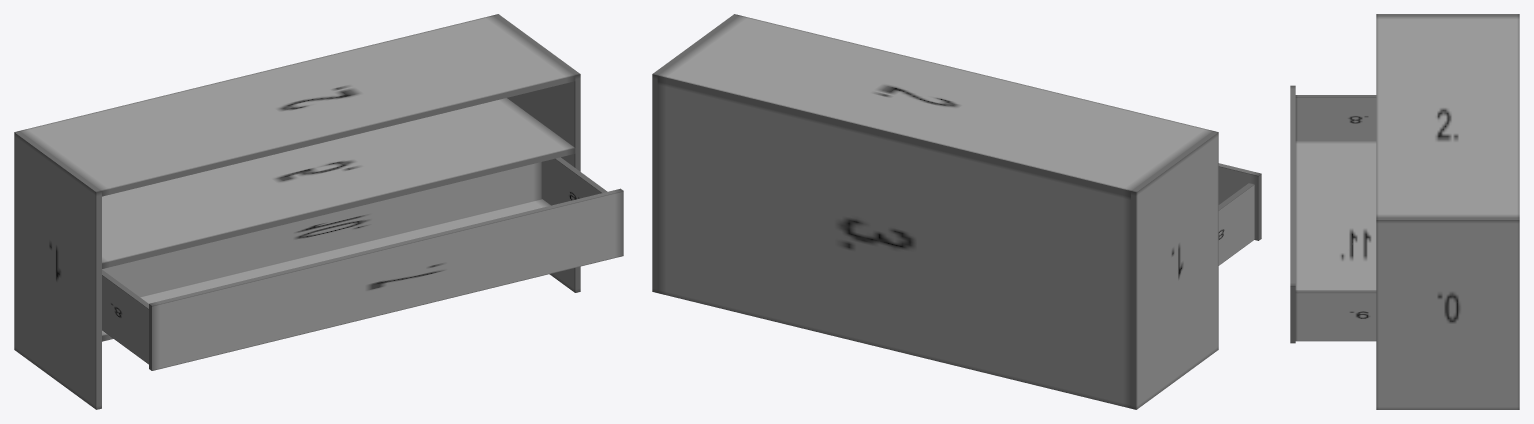
Rendered from meublen.glb.
3 renders of one model, left to right at view 1: azimuth 30°, elevation 25°; view 2: azimuth 150°, elevation 25°; view 3: azimuth 270°, elevation 25°, orthographic. The views are drawn at different scales.
Visible parts, largest first — view 1: world; view 2: world; view 3: world.
Part boxes in pixels (box(x1,y1,x2,y2)): world: box(14, 14, 623, 409); world: box(652, 14, 1261, 409); world: box(1290, 14, 1519, 409).
Size of the model in its own units: 1.7 by 0.73 by 0.8.
Materials: 1 (1 with a texture image).
